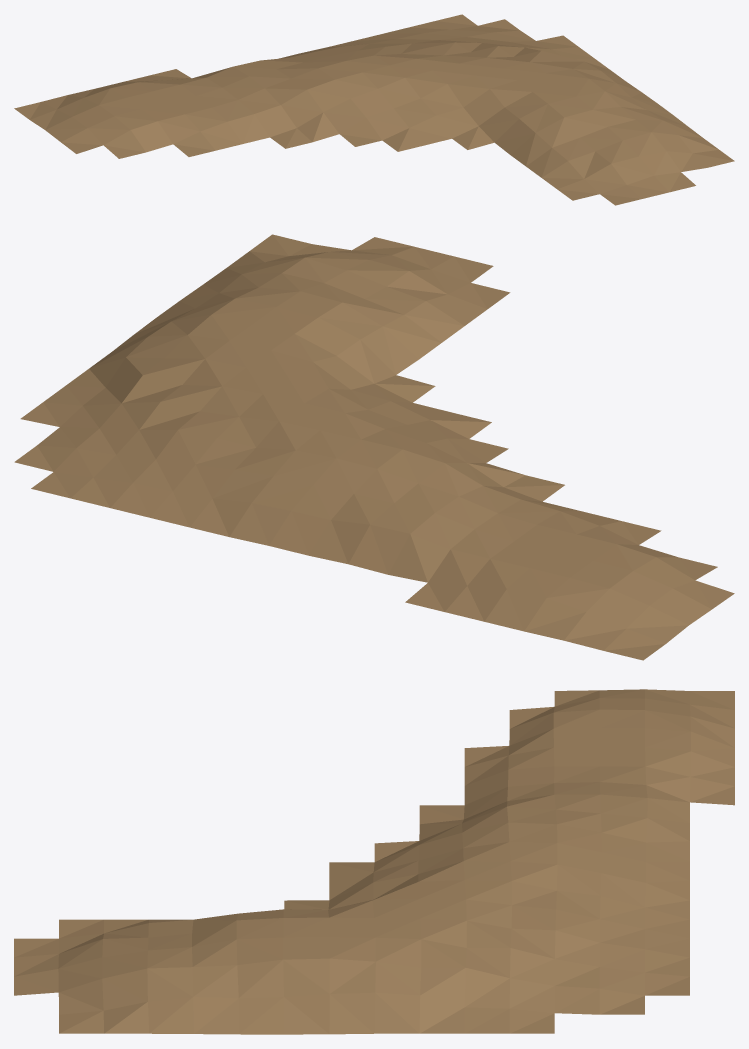
The model's file is SM_Env_GroundMounds_04.fbx.
3 views of the same model, one above another, from view 1: azimuth 30°, elevation 25°; view 2: azimuth 150°, elevation 25°; view 3: azimuth 270°, elevation 25° (orthographic). The views are drawn at different scales.
Parts seen in each view (by area): view 1: SM_Env_GroundMounds_04; view 2: SM_Env_GroundMounds_04; view 3: SM_Env_GroundMounds_04.
Part boxes in pixels (x1,y1,x2,y2): SM_Env_GroundMounds_04: (14,14,734,205); SM_Env_GroundMounds_04: (14,234,734,660); SM_Env_GroundMounds_04: (14,689,734,1034).
Bounding box in the file's own units: 0.0746 × 0.004 × 0.0662.
Materials: 1 (1 with a texture image).
